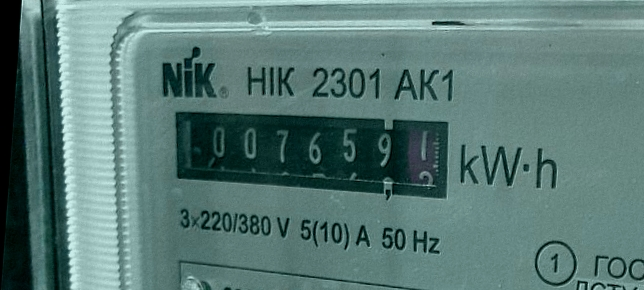0: (239, 122, 262, 164), (208, 122, 231, 162)
1: (413, 126, 434, 164)
5: (337, 125, 362, 166)
6: (303, 126, 328, 169)
7: (270, 125, 295, 165)
9: (373, 129, 397, 171)
screen: (161, 96, 459, 209)
